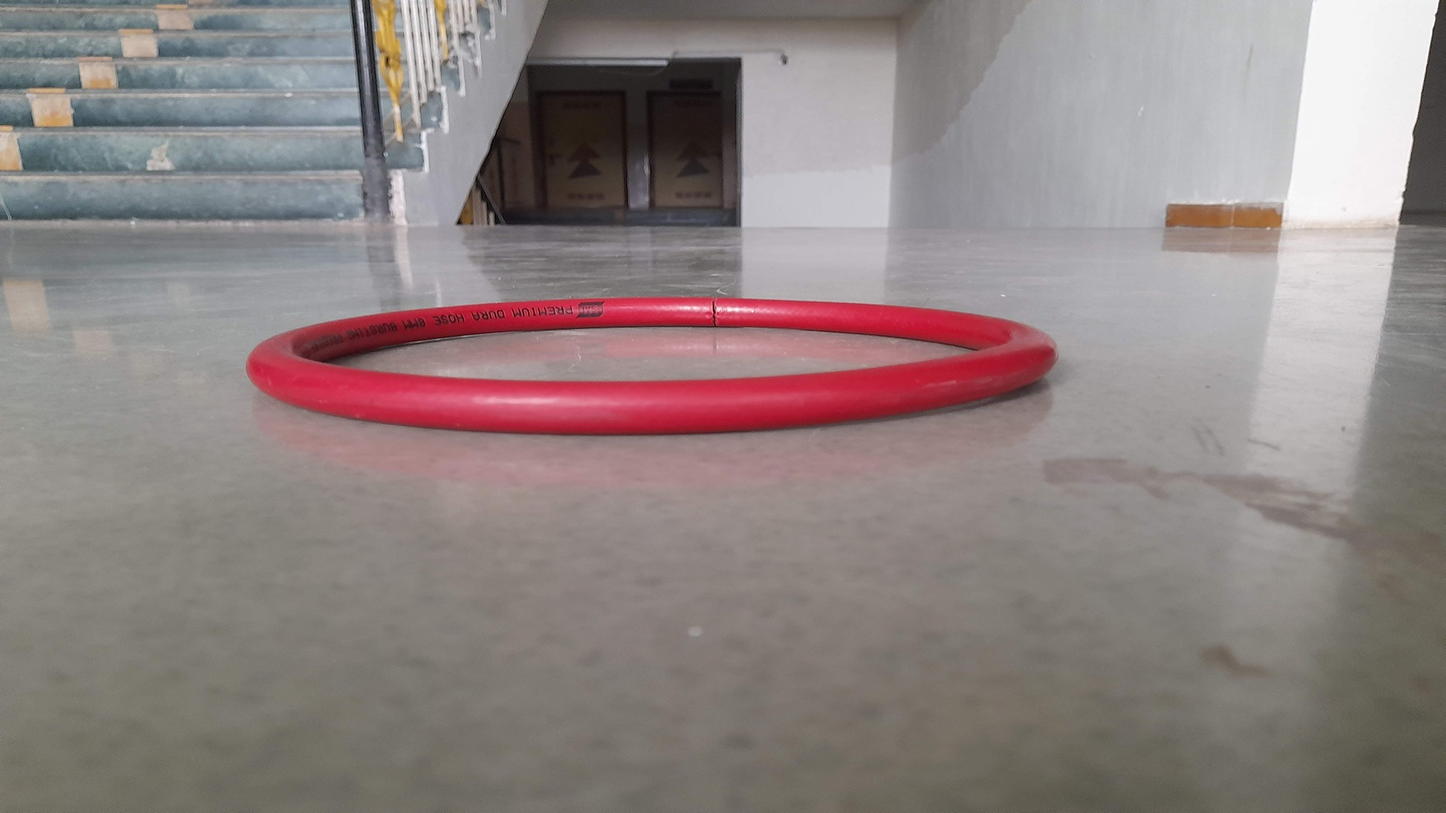Red ring: (243, 295, 1059, 436)
